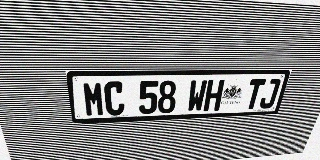5: (139, 81, 159, 114)
8: (157, 80, 178, 113)
C: (104, 81, 124, 116)
H: (203, 80, 225, 111)
J: (258, 79, 281, 109)
M: (82, 82, 105, 117)
T: (243, 79, 266, 109)
W: (186, 80, 208, 112)
